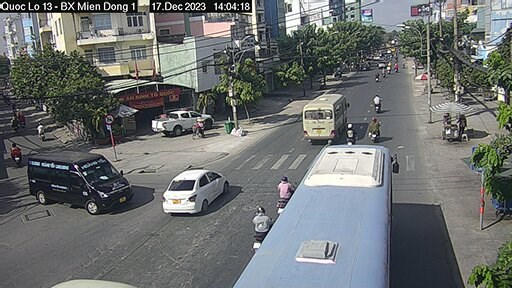bus: (285, 143, 396, 288)
car: (26, 153, 133, 212), (161, 167, 228, 215), (303, 90, 349, 143), (149, 109, 215, 138)
motorbike: (8, 137, 27, 166), (368, 116, 384, 144), (373, 92, 384, 113)
